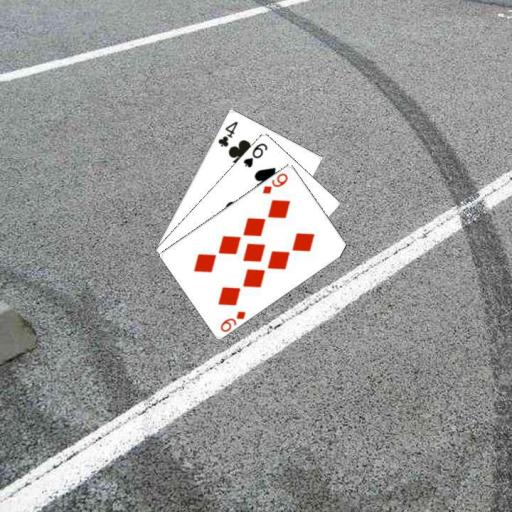4C: (215, 118, 239, 148)
6S: (240, 140, 269, 169)
9D: (260, 169, 290, 196), (217, 307, 247, 333)
